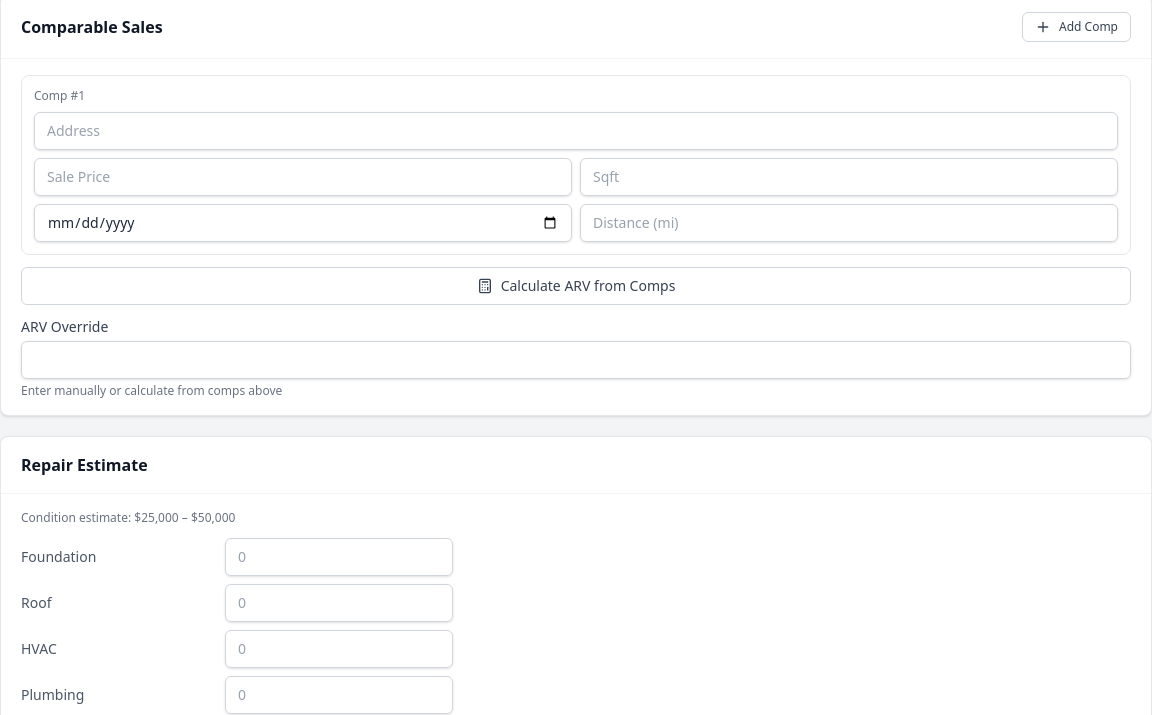
saves one manifest and requires deliberate new analysis after success
(page scrolled)
Type "250000" into the number field labelled "ARV Override". click: (576, 360)
box: [21,341,1131,379]
(page scrolled)
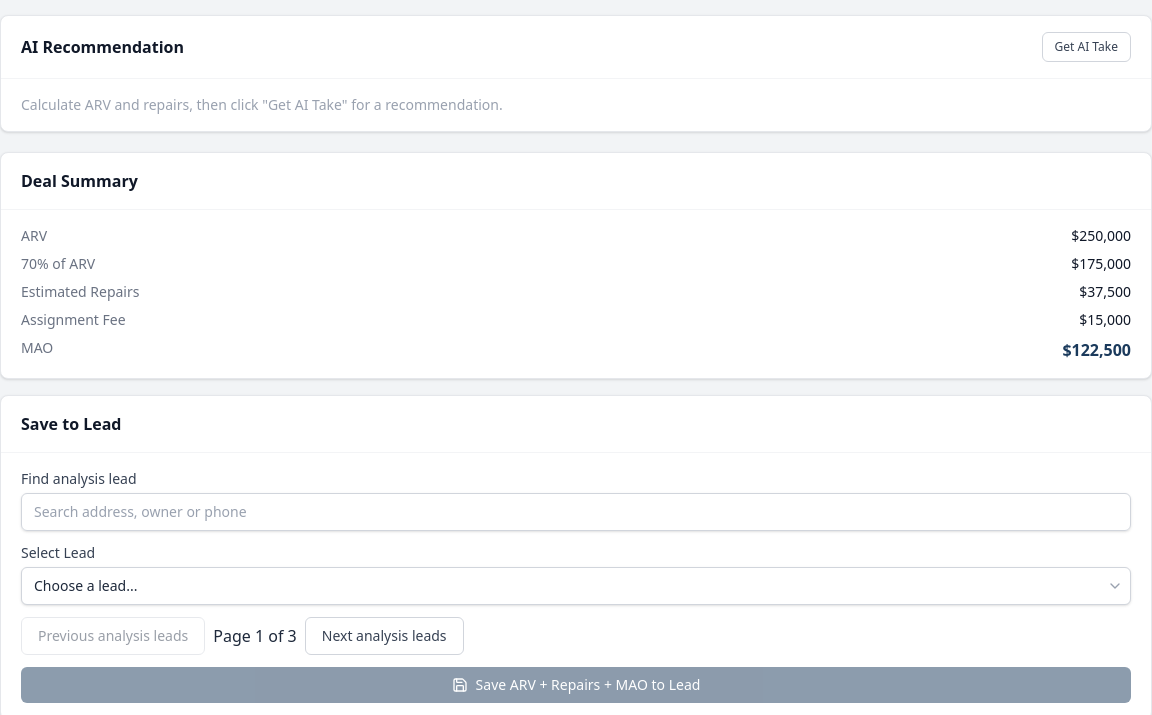
Select "Test Property" in the dropdown labelled "Select Lead". click: (576, 586)
box: [21,567,1131,605]
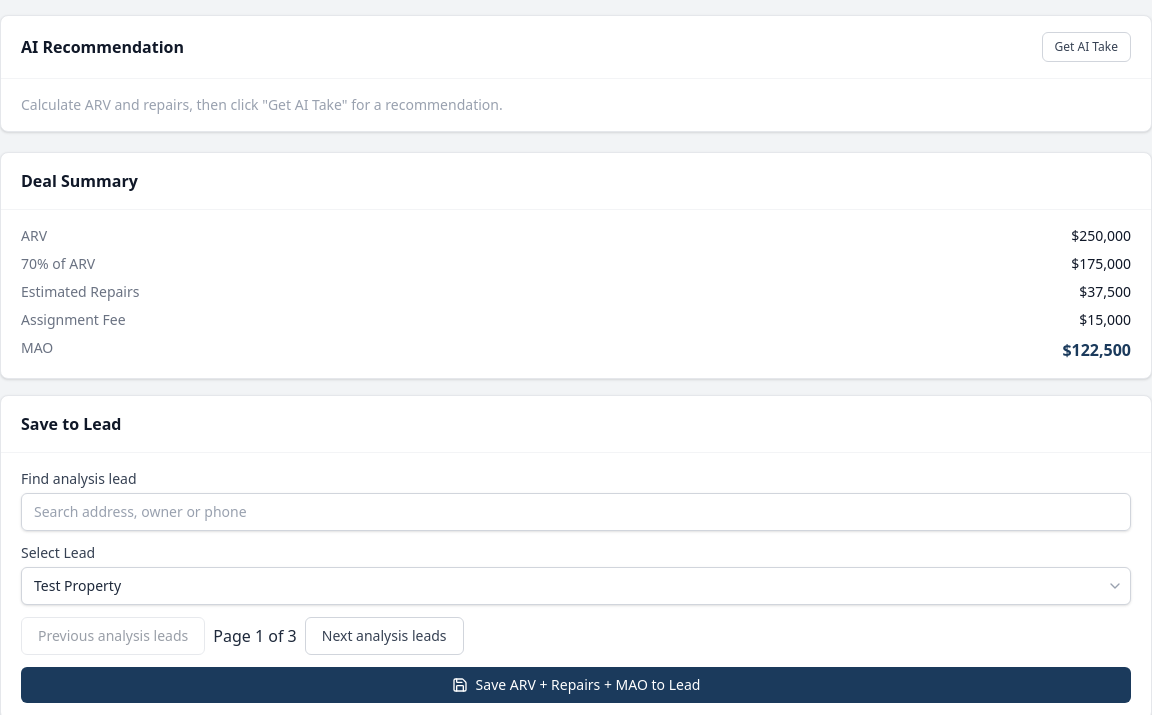
Click the button "Save ARV + Repairs + MAO to Lead". click: (576, 685)
box: [21,667,1131,703]
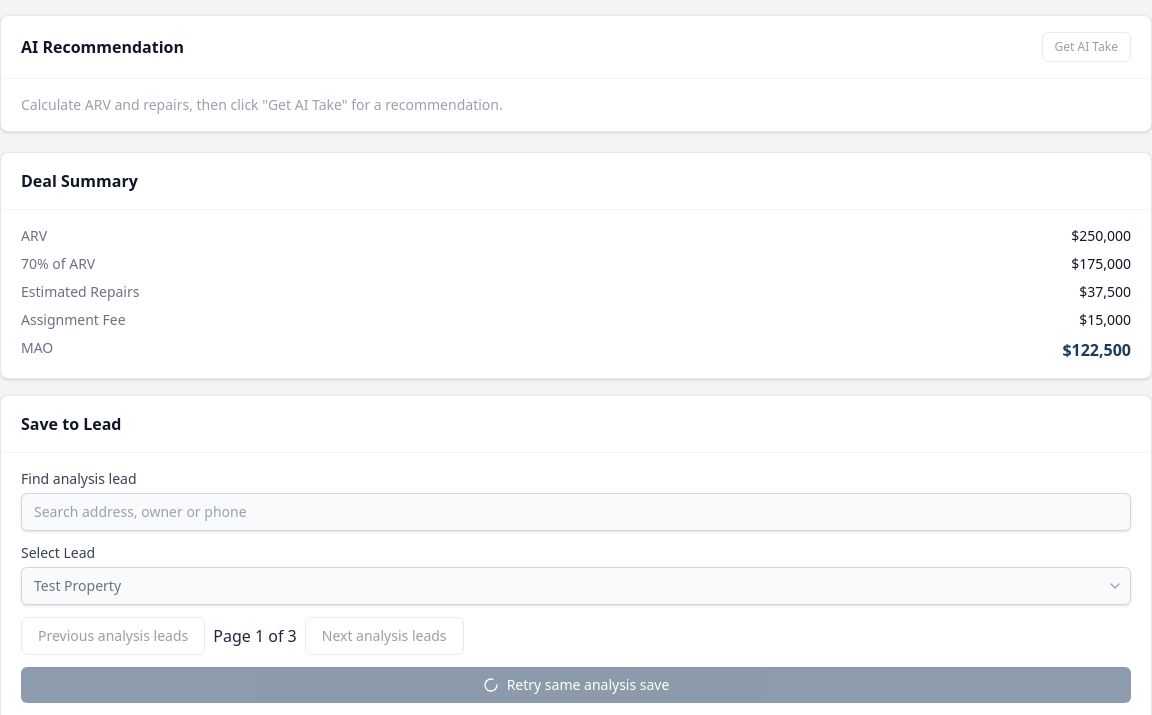
Click the button named "Save ARV". click: (576, 685)
box: [21,667,1131,703]
(page scrolled)
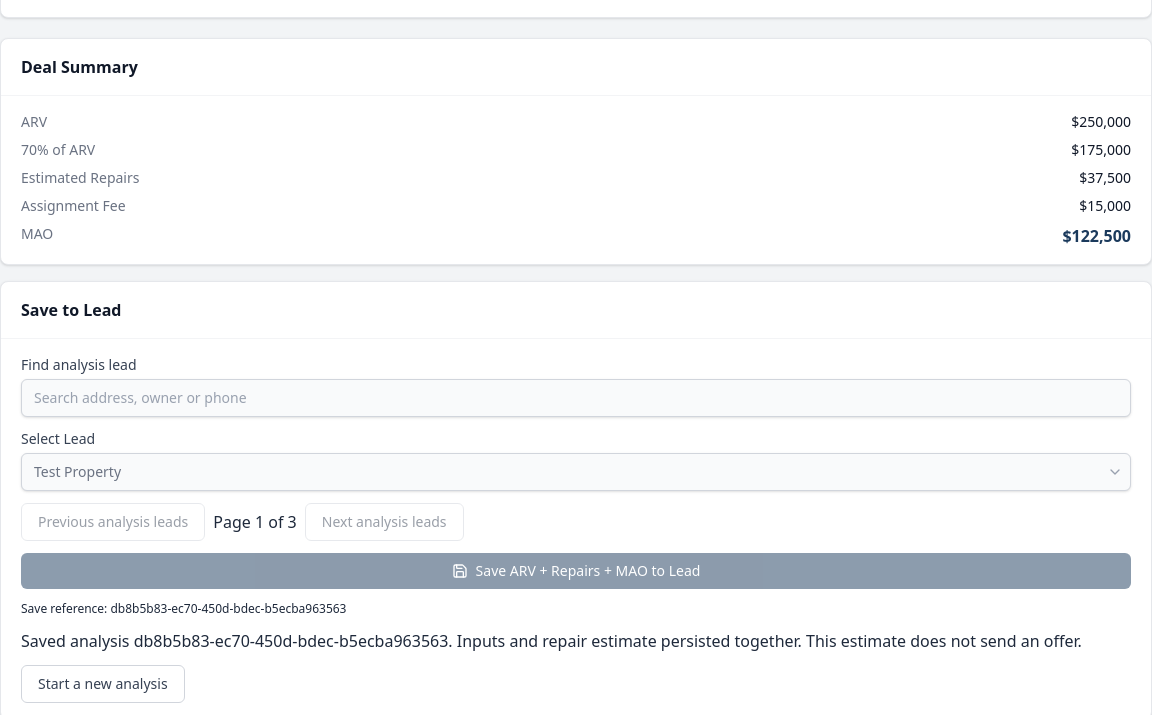
Expected: the button "Save ARV + Repairs + MAO to Lead" is disabled, [21,553,1131,589]
Expected: the button "Start a new analysis" is enabled, [21,665,185,703]
